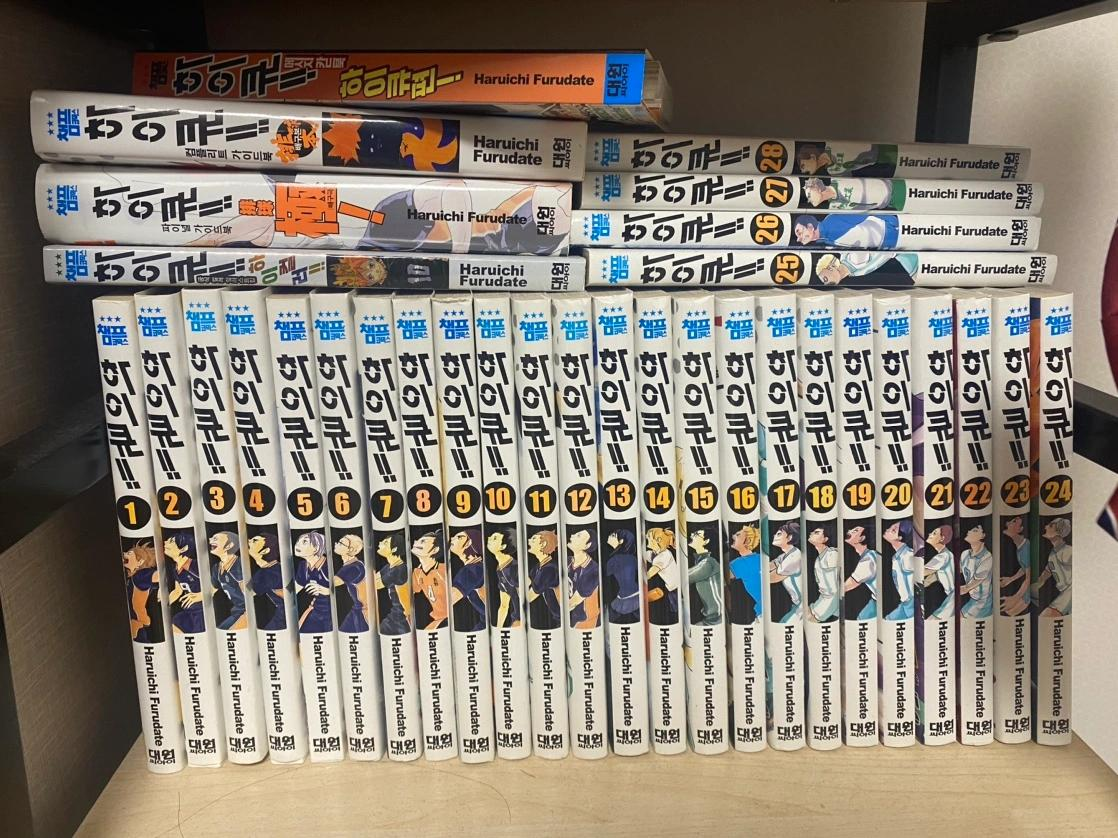book: (31, 41, 1085, 753)
